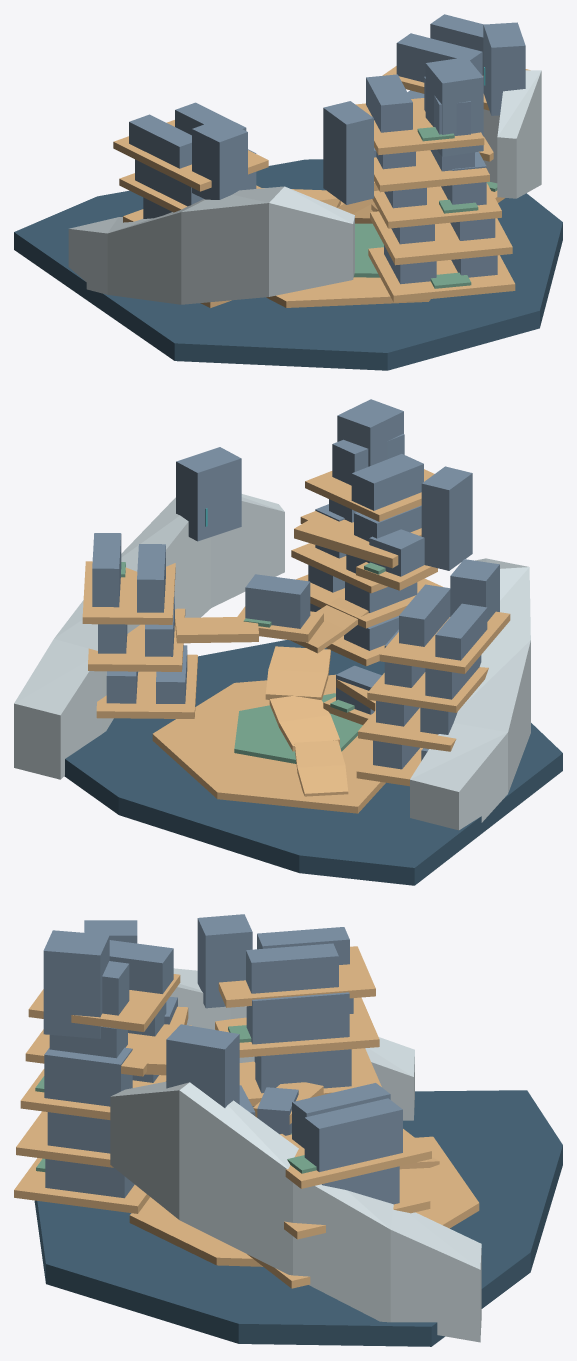
The model's file is a29_civic_strata.obj.
The picture shows the model from 3 angles, top to bottom: view 1: azimuth 30°, elevation 25°; view 2: azimuth 150°, elevation 25°; view 3: azimuth 270°, elevation 25°; orthographic projection. The views are drawn at different scales.
Bounding box in the file's own units: 328 × 195 × 322.
